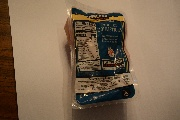chicken: (62, 1, 141, 108)
